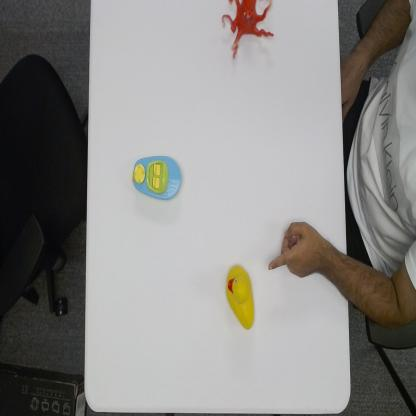Boat: (130, 153, 183, 203)
Duck: (224, 261, 256, 332)
Hand: (267, 221, 331, 282)
Octopus: (220, 0, 276, 61)
